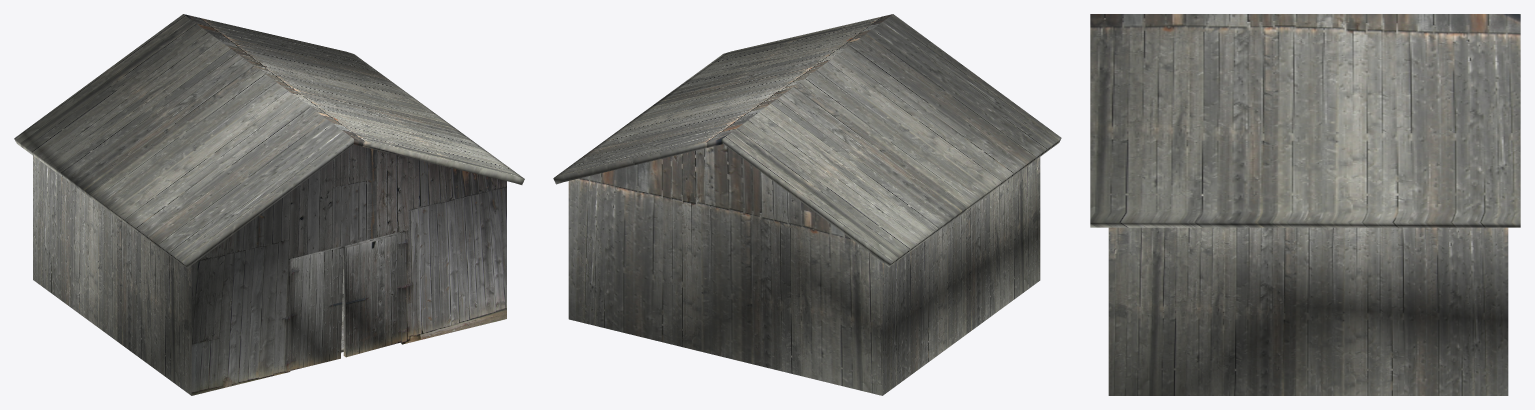
Rendered from barn.fbx.
The picture shows the model from 3 angles, left to right: view 1: azimuth 30°, elevation 25°; view 2: azimuth 150°, elevation 25°; view 3: azimuth 270°, elevation 25°; orthographic projection. The views are drawn at different scales.
Parts seen in each view (by area): view 1: U3DMesh; view 2: U3DMesh; view 3: U3DMesh.
Boxes of the visible parts, x1,y1,x2,y2 form: U3DMesh: (14, 14, 524, 395); U3DMesh: (553, 14, 1061, 395); U3DMesh: (1090, 14, 1520, 395).
Size of the model in its own units: 25.24 by 15.93 by 21.94.
3 materials, 2 textured.
